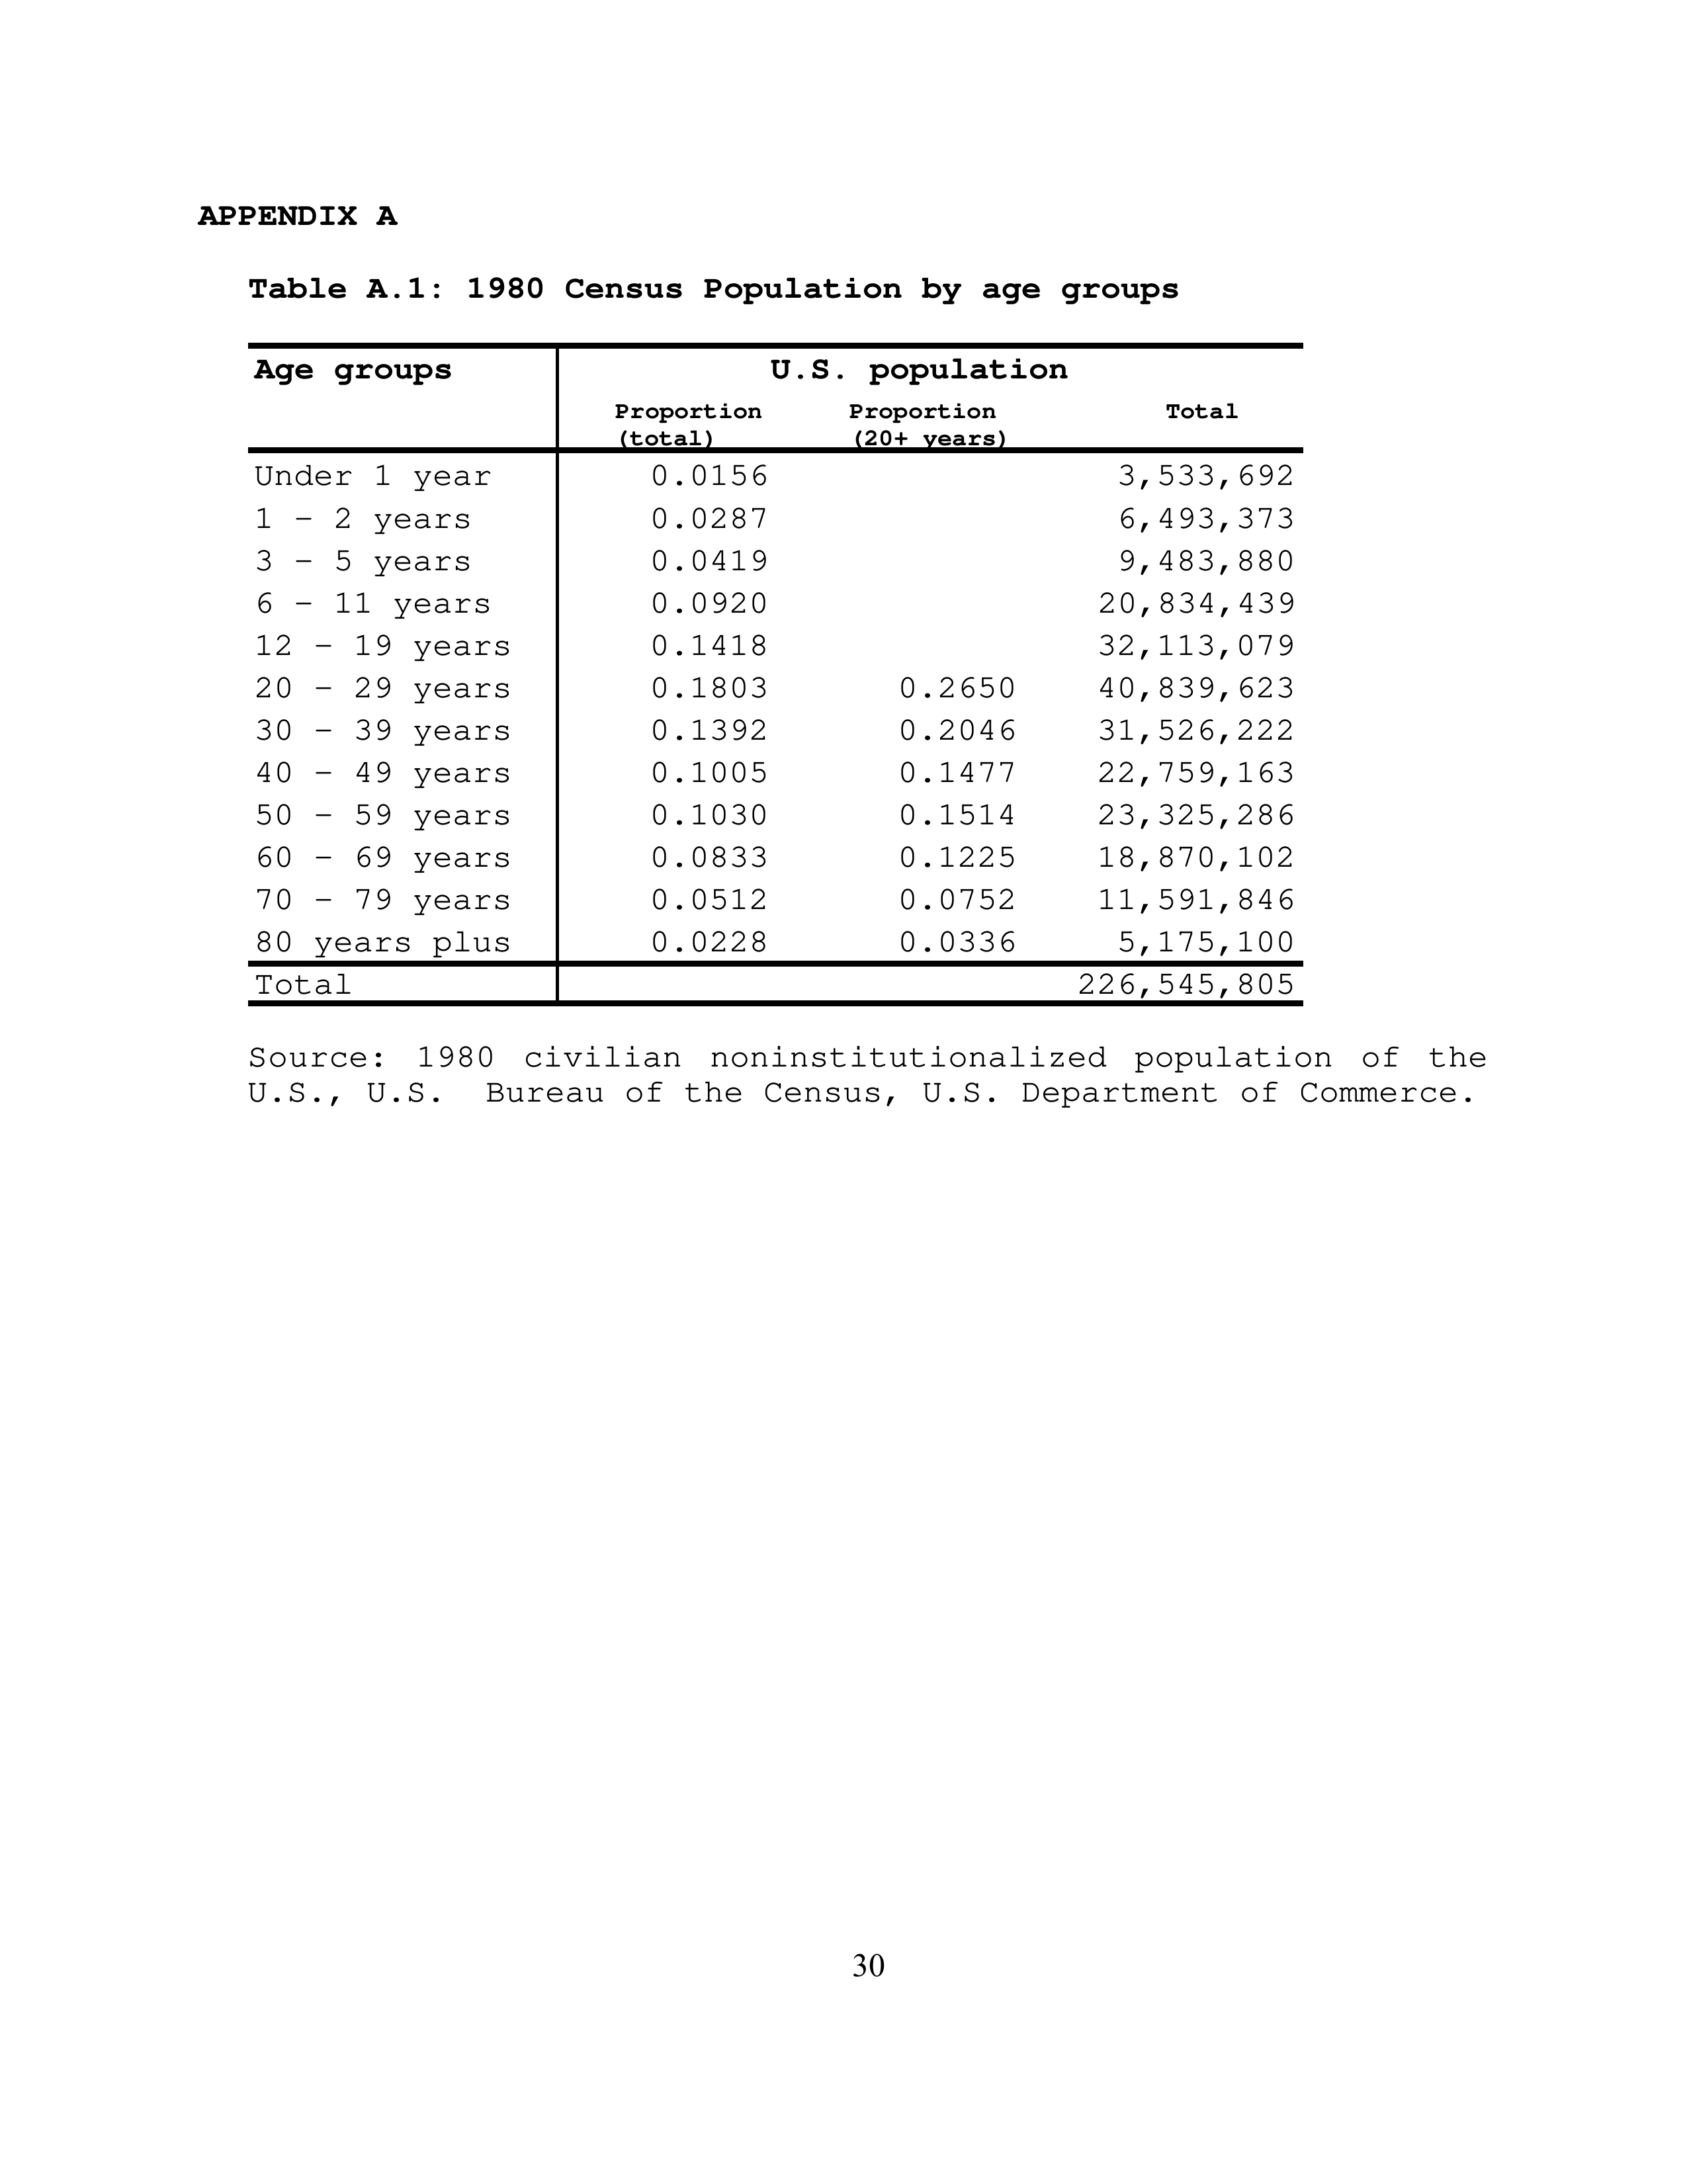table: (248, 342, 1304, 1006)
